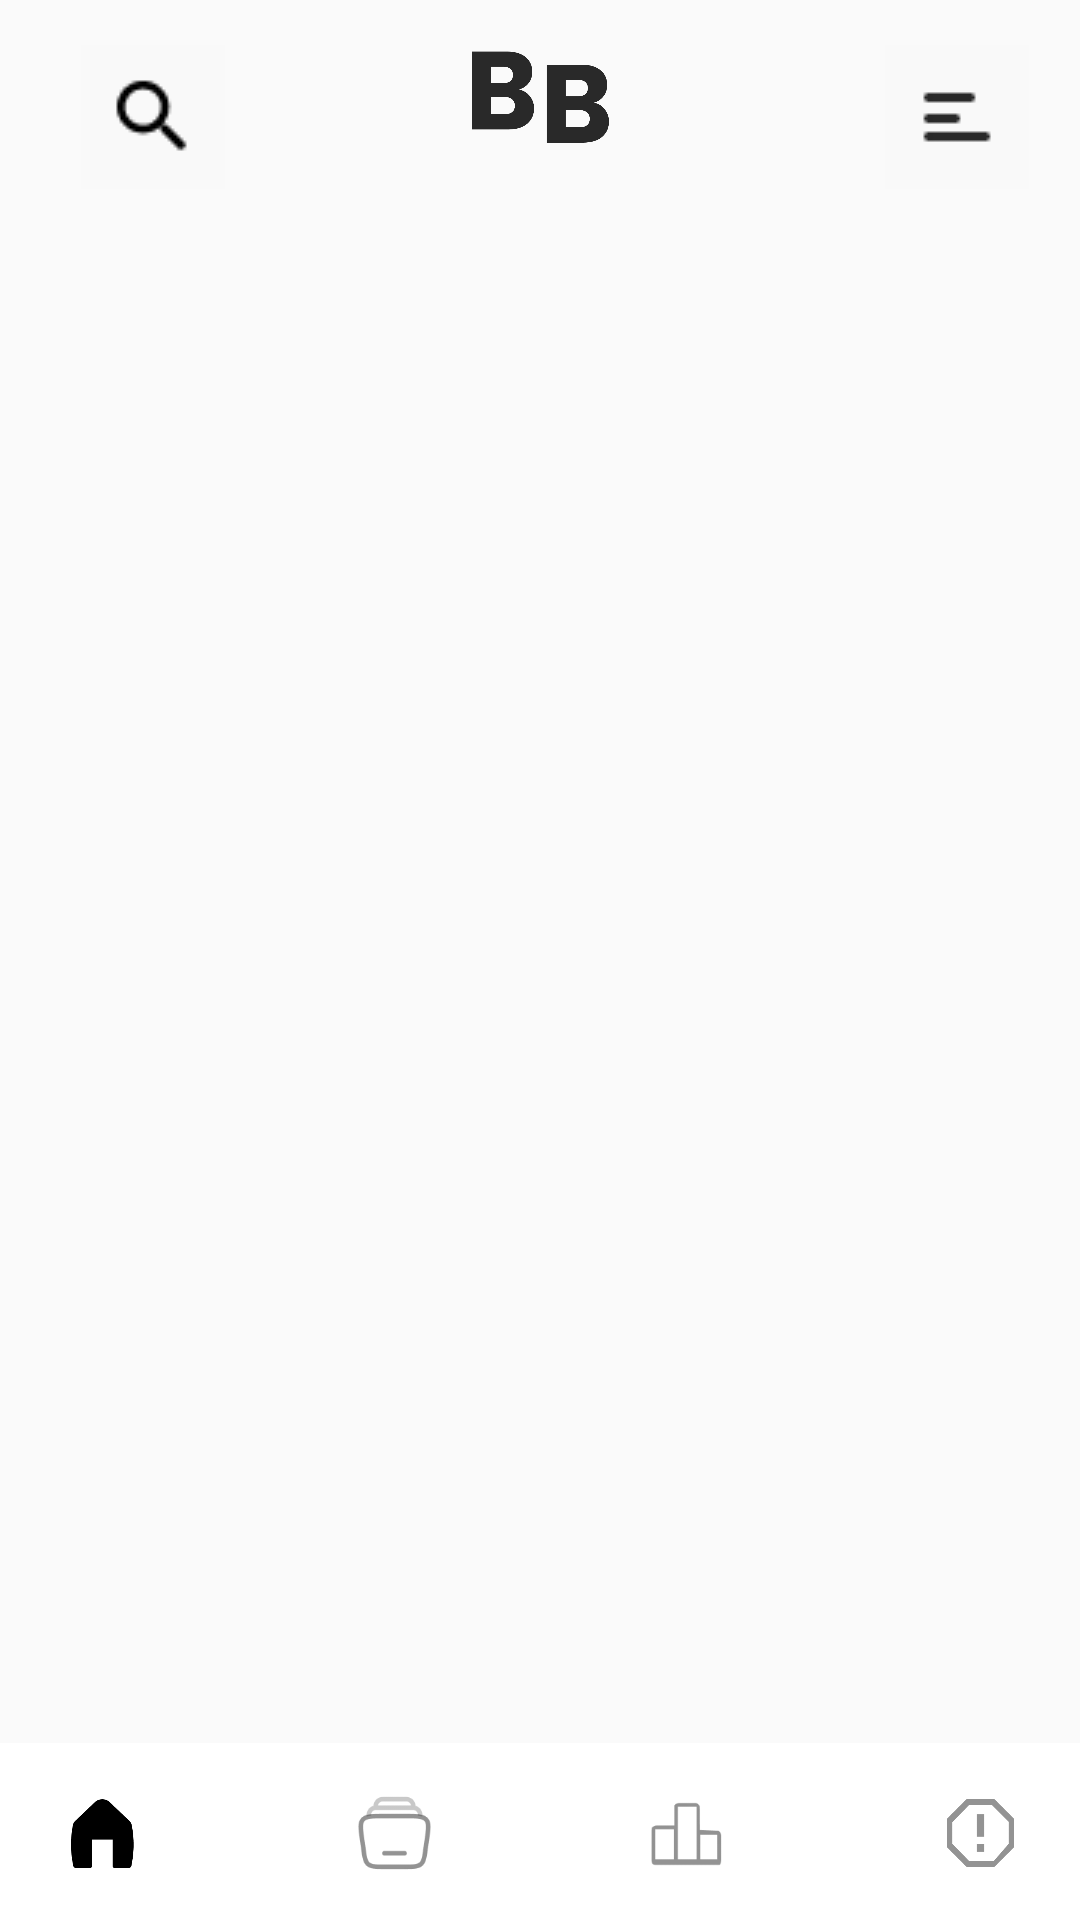

Icons on this 1080 x 1920 Android screen, each with its box as (x1, y1, x2, y2):
homepage: (71, 1799, 134, 1868)
laporan: (947, 1799, 1014, 1867)
library: (358, 1797, 431, 1869)
peringkat: (651, 1803, 721, 1865)
search: (116, 80, 187, 151)
